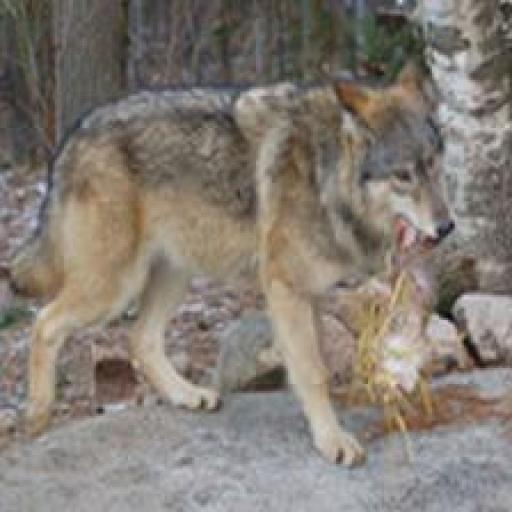wolf: (0, 36, 482, 480)
